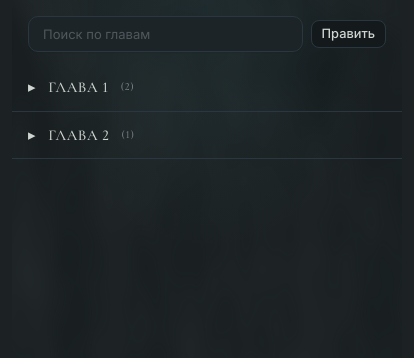
ChaptersTab — view mode › клик по заголовку главы раскрывает и сворачивает локации
The image size is (414, 358).
Expected: the text "Вагенбург" is not shown
Step 1. Click the text "Глава 1" → (78, 87), box [48,76,109,98]
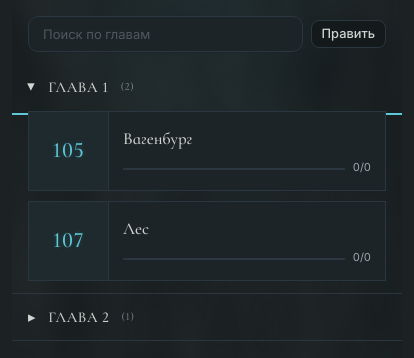
Now the text "Вагенбург" is shown, box [123,126,192,151]
Step 2. Click the text "Глава 1" → (78, 87), box [48,76,109,98]
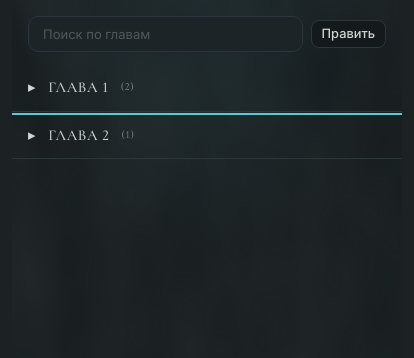
Now the button "Вагенбург" is gone
